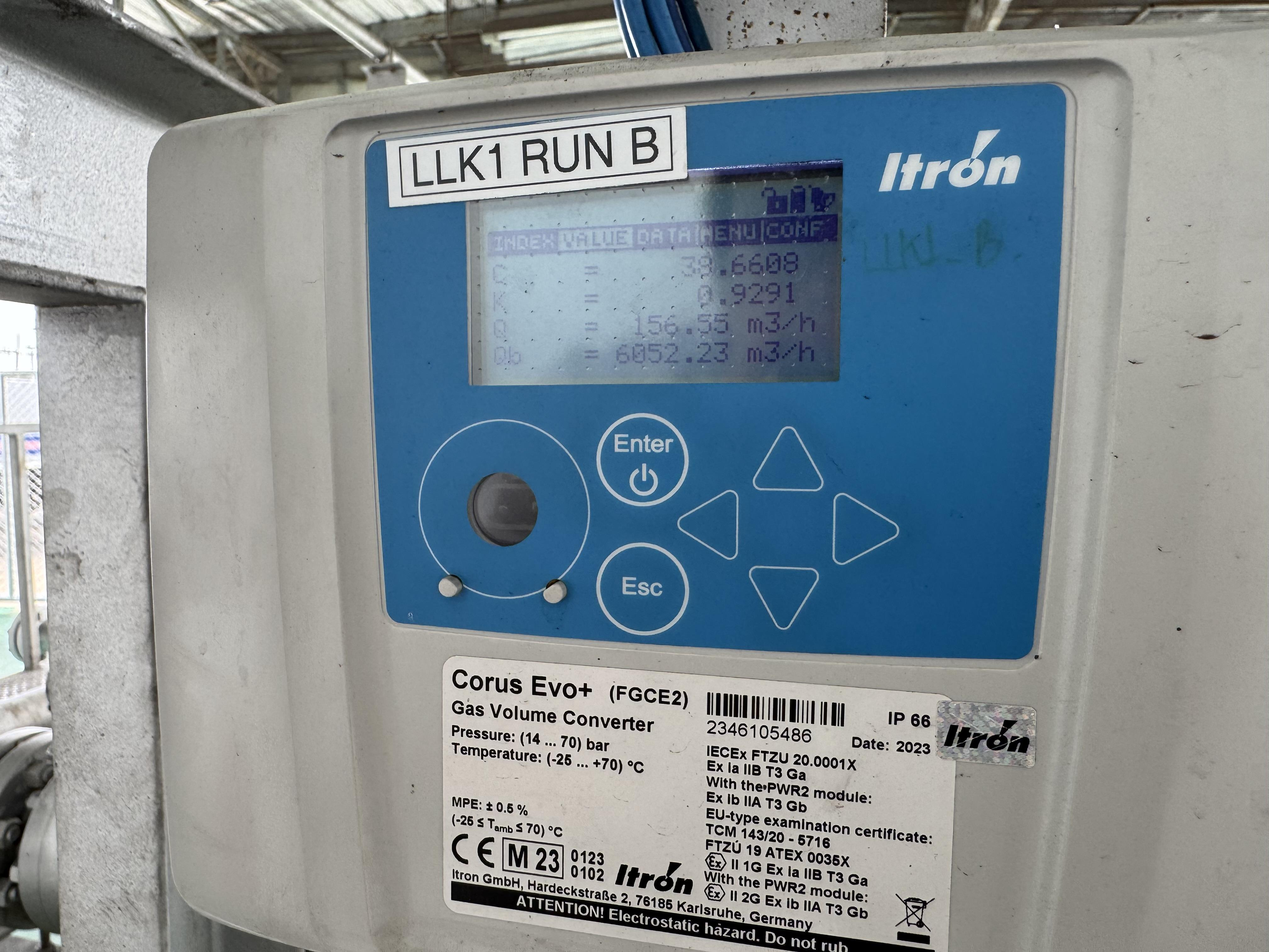digital_screen: (466, 159, 845, 386)
